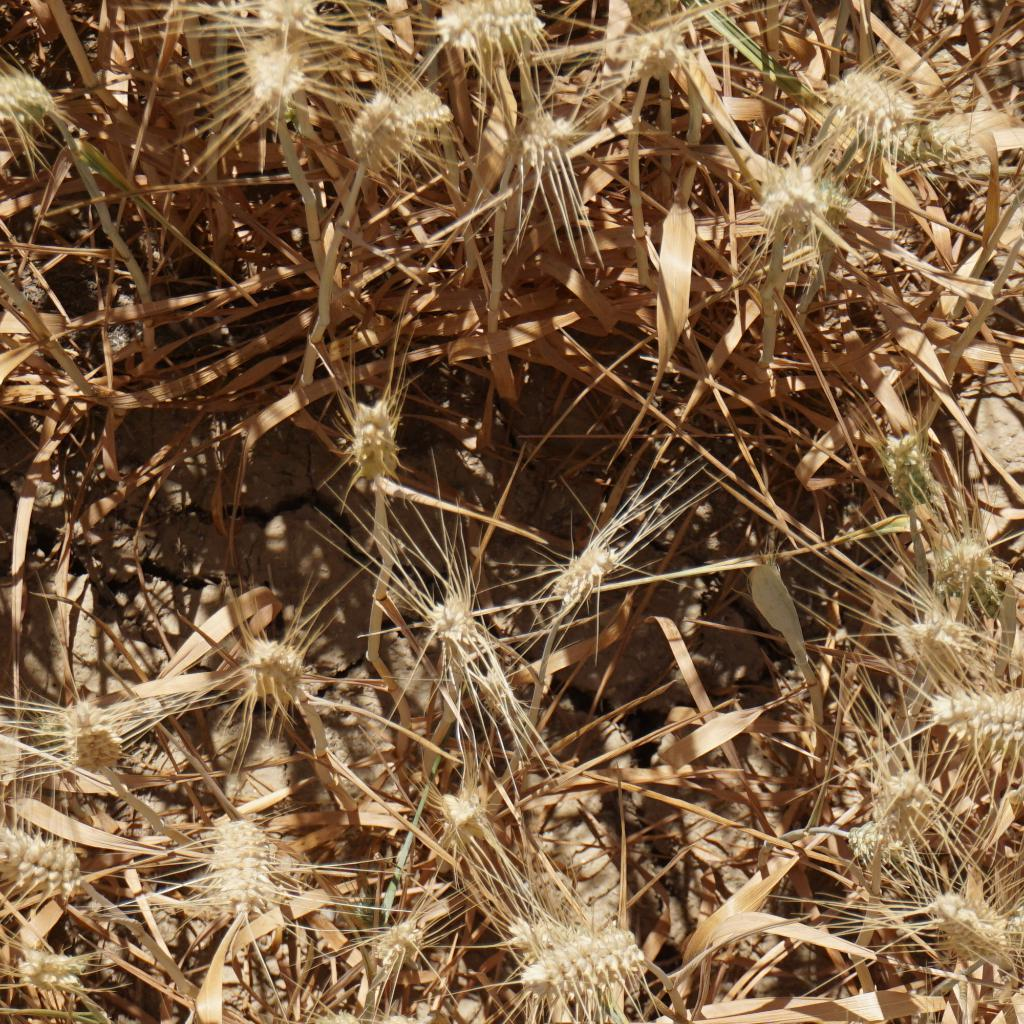0-0: (516, 909, 653, 998), (740, 145, 844, 242), (919, 868, 1021, 963), (868, 406, 943, 530), (813, 805, 933, 881), (825, 60, 919, 155), (200, 819, 281, 925), (248, 43, 334, 130), (0, 805, 80, 893), (0, 51, 76, 143), (69, 702, 155, 783), (541, 527, 624, 608), (434, 0, 545, 60), (612, 25, 716, 88), (224, 620, 303, 702), (941, 683, 1024, 761), (334, 399, 411, 482), (391, 67, 470, 145), (521, 90, 594, 167), (348, 74, 417, 151), (893, 606, 988, 661), (29, 949, 102, 1014), (358, 901, 413, 986), (423, 775, 490, 840), (921, 541, 1012, 588), (872, 748, 925, 828), (419, 590, 480, 649), (246, 994, 348, 1024), (250, 0, 328, 36), (362, 1010, 454, 1024)
